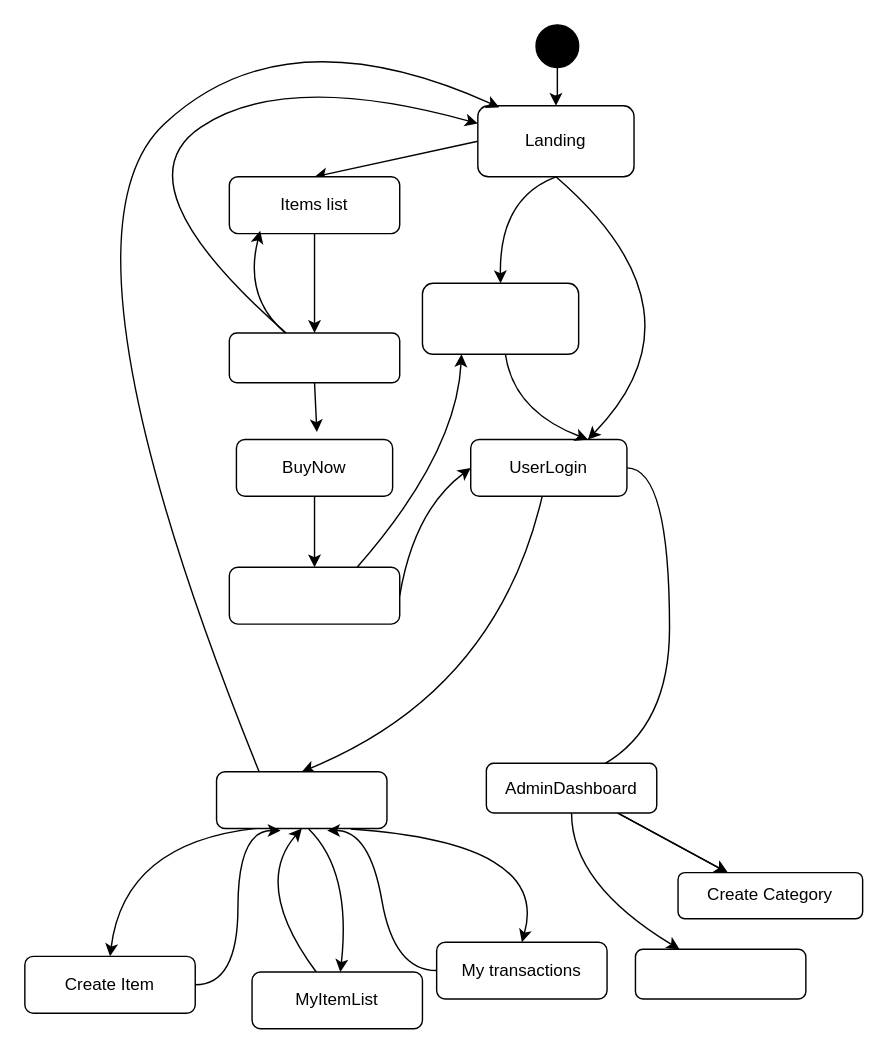
Some shapes in this 888 by 1054 pixel diagram are drawn without their labels. The shapes that lost their labels are listed below. From the top down, each one's centre as x and y in pixels, then its label:
At [500,318]: "User Registration".
At [314,357]: "Item Details".
At [314,595]: "Transaction".
At [301,799]: "Dashboard".
At [720,973]: "Delete User/Item".
